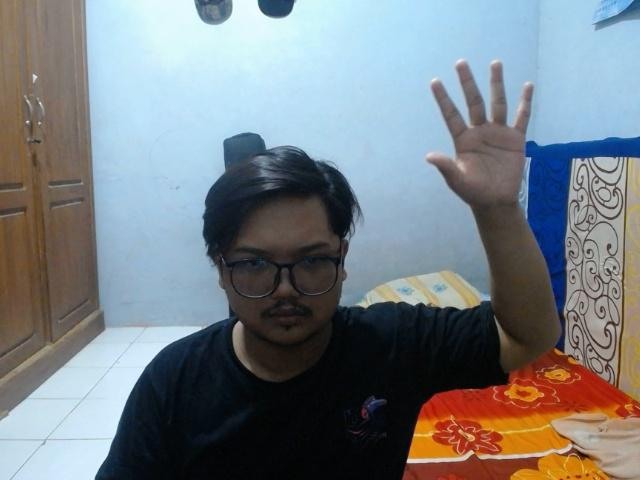Release: (421, 50, 536, 214)
